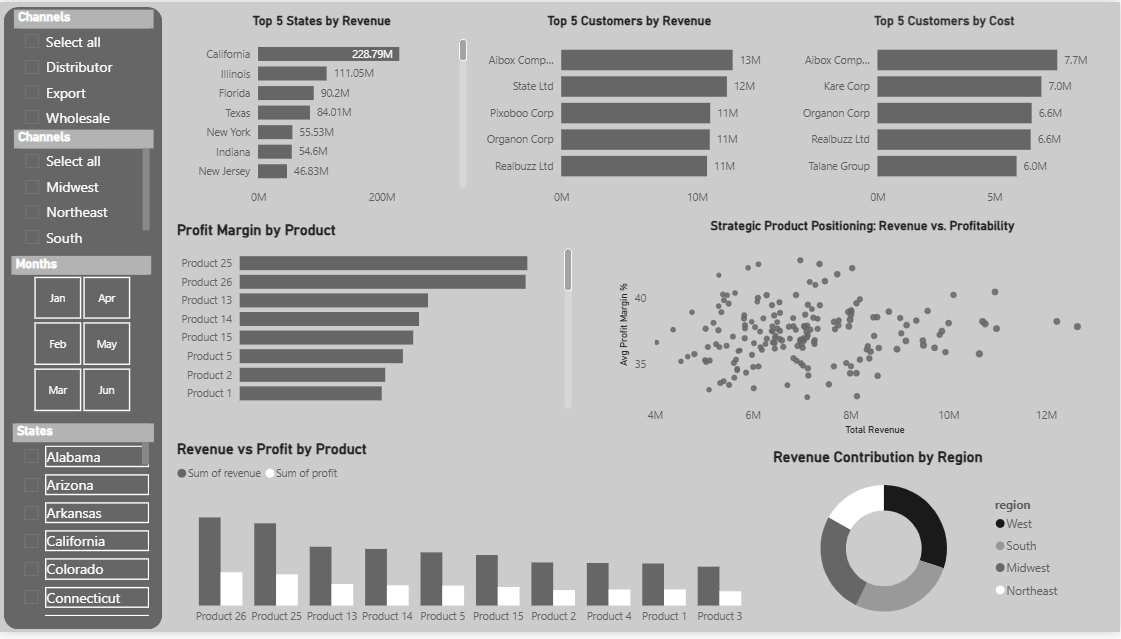

The dashboard page shown, as its layout file describes it:
{"tool":"powerbi","page":{"name":"Sales and Profit Analysis ","canvas":[1280,720],"ordinal":1},"visuals":[{"type":"shape","box":[3.8,5,181.2,711.2],"z":0},{"type":"barChart","title":"Top 5 States by Revenue","fields":{"Category":["cleaned_data.state_name"],"Y":["Sum(cleaned_data.revenue)"]},"box":[197.1,12.9,341.4,228.6],"z":1000},{"type":"slicer","title":"Channels","fields":{"Values":["cleaned_data.channel"]},"box":[15,9.2,160,143.8],"z":2000},{"type":"barChart","title":"Top 5 Customers by Revenue","fields":{"Category":["cleaned_data.customer_name"],"Y":["Sum(cleaned_data.revenue)"]},"box":[538.6,12.9,361.4,228.6],"z":3000},{"type":"barChart","title":"Top 5 Customers by Cost","fields":{"Category":["cleaned_data.customer_name"],"Y":["Sum(cleaned_data.total_cost)"]},"box":[900,12.9,358.6,228.6],"z":4000},{"type":"slicer","title":"Months","fields":{"Values":["cleaned_data.Month Name"]},"box":[13.3,290,160,184.4],"z":5000},{"type":"slicer","title":"States","fields":{"Values":["cleaned_data.state_name"]},"box":[13.8,481.2,161.2,225],"z":6000},{"type":"slicer","title":"Channels","fields":{"Values":["cleaned_data.region"]},"box":[16.2,146.2,160,143.3],"z":7000},{"type":"clusteredColumnChart","title":"Revenue vs Profit by Product","fields":{"Y":["Sum(cleaned_data.revenue)","Sum(cleaned_data.profit)"],"Category":["cleaned_data.product_name"]},"box":[197.1,500,681.4,220],"z":8000},{"type":"barChart","title":"Profit Margin by Product","fields":{"Y":["Sum(cleaned_data.profit_margin)"],"Category":["cleaned_data.product_name"]},"box":[197.1,250,461.4,220],"z":9000},{"type":"donutChart","title":"Revenue Contribution by Region","fields":{"Y":["Sum(cleaned_data.revenue)"],"Category":["cleaned_data.region"]},"box":[878.6,510,344.3,210],"z":10000},{"type":"scatterChart","title":"Strategic Product Positioning: Revenue vs. Profitability","fields":{"X":["Customer Summary.Total Revenue"],"Y":["Customer Summary.Avg Profit Margin %"],"Size":["Sum(Customer Summary.Order Count)"]},"box":[702.9,247.1,565.7,252.9],"z":11000}]}

Visuals, with their boxes in screenshot pixels (x1, y1, x2, y2), scaled from the page's 1280x720 canvas onto the 1121x639 screenshot:
shape: Rect(3, 4, 162, 636)
"Top 5 States by Revenue" barChart: Rect(173, 11, 472, 214)
"Channels" slicer: Rect(13, 8, 153, 136)
"Top 5 Customers by Revenue" barChart: Rect(472, 11, 788, 214)
"Top 5 Customers by Cost" barChart: Rect(788, 11, 1102, 214)
"Months" slicer: Rect(12, 257, 152, 421)
"States" slicer: Rect(12, 427, 153, 627)
"Channels" slicer: Rect(14, 130, 154, 257)
"Revenue vs Profit by Product" clusteredColumnChart: Rect(173, 444, 769, 638)
"Profit Margin by Product" barChart: Rect(173, 222, 577, 417)
"Revenue Contribution by Region" donutChart: Rect(769, 453, 1071, 638)
"Strategic Product Positioning: Revenue vs. Profitability" scatterChart: Rect(616, 219, 1111, 444)
